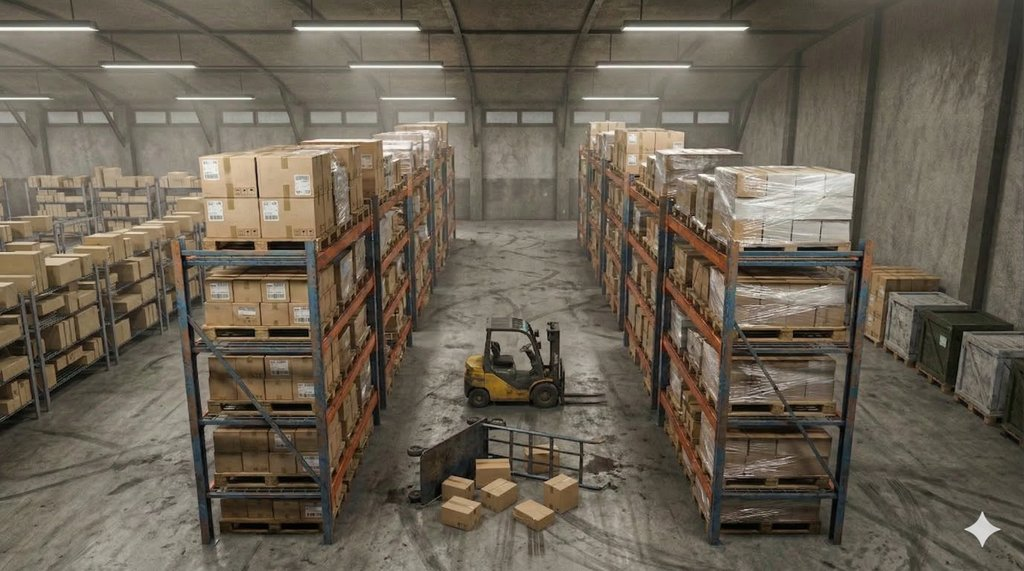forklift: (455, 315, 620, 421)
obstacle: (382, 407, 625, 547)
pallet: (712, 397, 870, 442), (723, 236, 871, 275), (700, 508, 828, 551), (199, 461, 339, 500), (191, 230, 344, 264), (196, 396, 351, 429), (215, 512, 347, 547), (717, 465, 837, 502), (730, 317, 852, 353), (200, 318, 328, 346)
